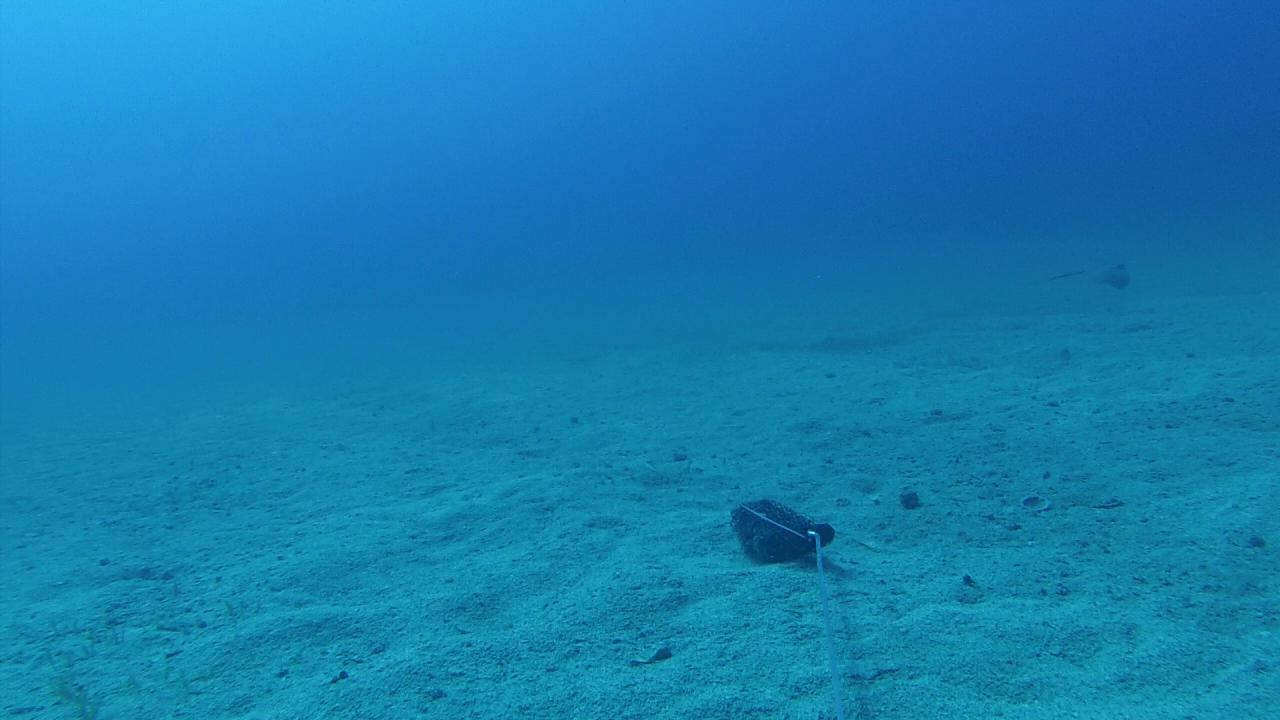dasyatis: (1048, 262, 1131, 289)
